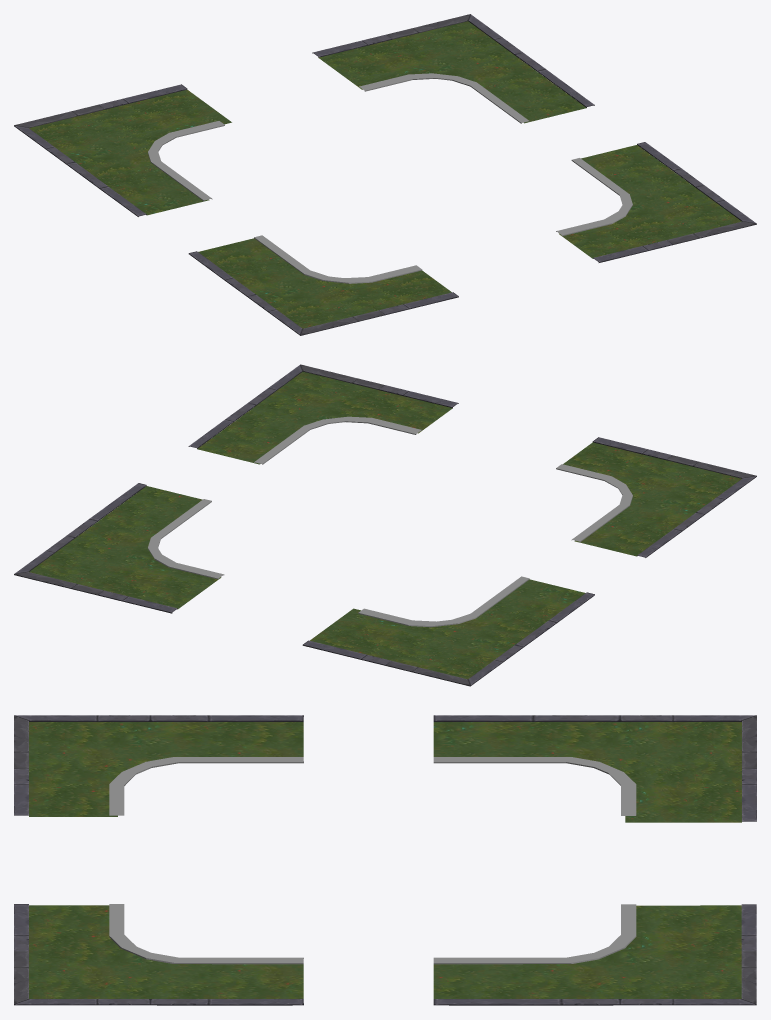
File: cs_zhucheng_caoping_001.FBX
The picture shows the model from 3 angles, top to bottom: view 1: azimuth 30°, elevation 25°; view 2: azimuth 150°, elevation 25°; view 3: azimuth 270°, elevation 25°; orthographic projection. The views are drawn at different scales.
Visible parts, largest first — view 1: cs_zhucheng_caoping_001; view 2: cs_zhucheng_caoping_001; view 3: cs_zhucheng_caoping_001.
Part boxes in pixels (x1,y1,x2,y2): cs_zhucheng_caoping_001: (14,14,756,335); cs_zhucheng_caoping_001: (14,364,756,686); cs_zhucheng_caoping_001: (14,715,756,1005).
Bounding box in the file's own units: 1140 × 1239 × 2.34.
